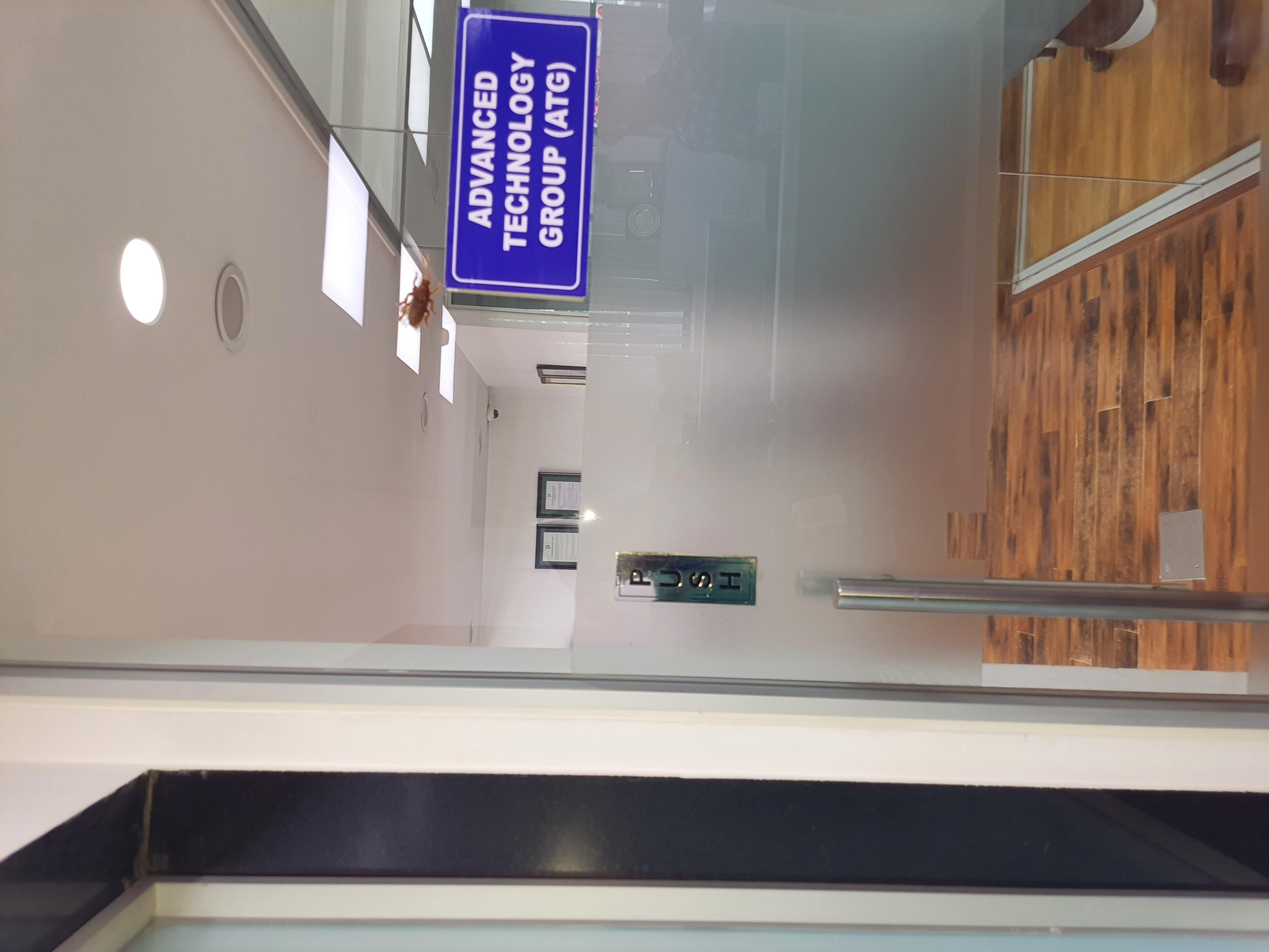cockroach: (776, 278, 934, 339)
